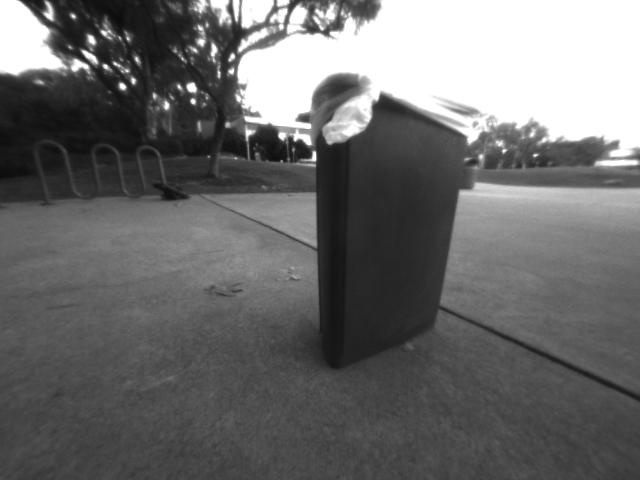trashcan_open: (308, 62, 489, 377)
